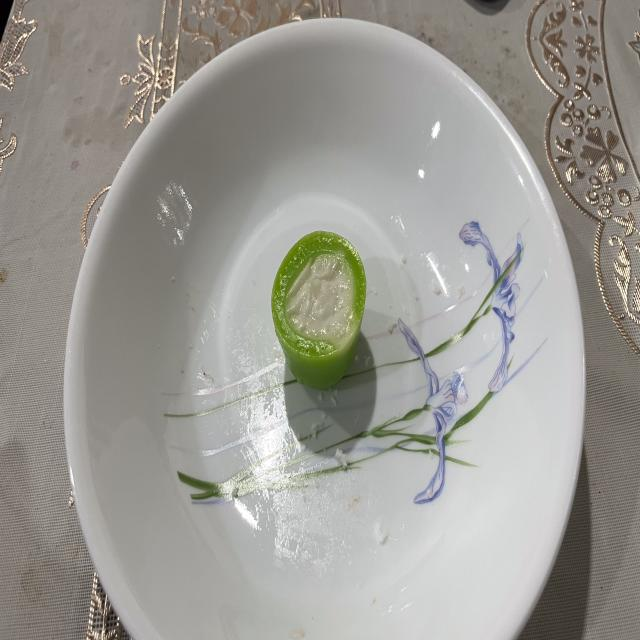nona-manis: (271, 231, 366, 389)
